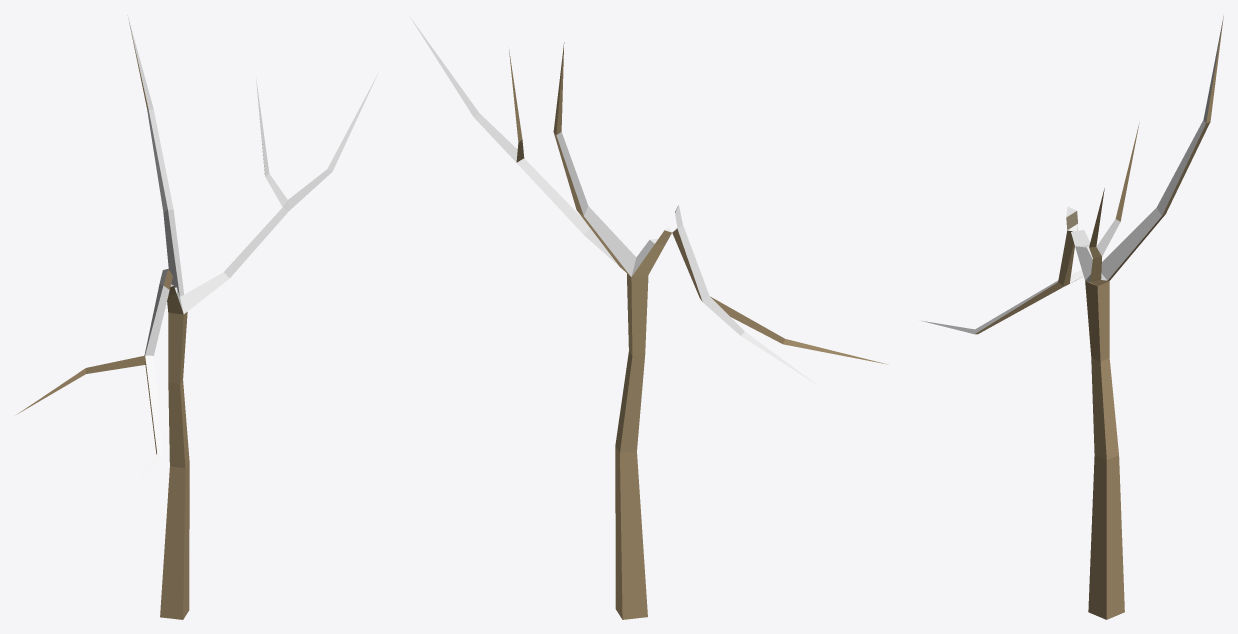
Rendered from Apple_Tree_NoLeaves_crk_s_Snow_01.fbx.
The picture shows the model from 3 angles, left to right: view 1: azimuth 30°, elevation 25°; view 2: azimuth 150°, elevation 25°; view 3: azimuth 270°, elevation 25°; orthographic projection. The views are drawn at different scales.
Parts seen in each view (by area): view 1: Apple_Tree_NoLeaves_crk_s_Snow_01; view 2: Apple_Tree_NoLeaves_crk_s_Snow_01; view 3: Apple_Tree_NoLeaves_crk_s_Snow_01.
Boxes of the visible parts, left/top/right/bottom form: Apple_Tree_NoLeaves_crk_s_Snow_01: left=16, top=15, right=378, bottom=619; Apple_Tree_NoLeaves_crk_s_Snow_01: left=409, top=16, right=886, bottom=619; Apple_Tree_NoLeaves_crk_s_Snow_01: left=921, top=16, right=1223, bottom=619.
Bounding box in the file's own units: 152 × 218 × 100.
